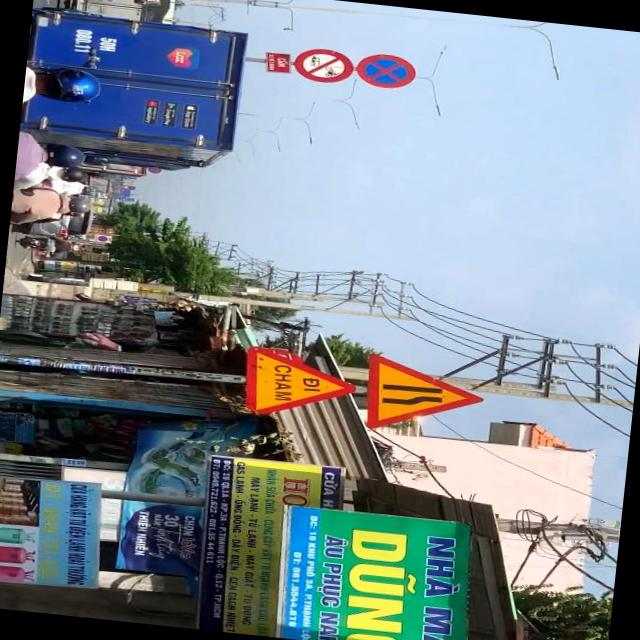P-130: (355, 50, 419, 90)
W-203c: (360, 351, 487, 437)
W-245a: (240, 345, 362, 424)
